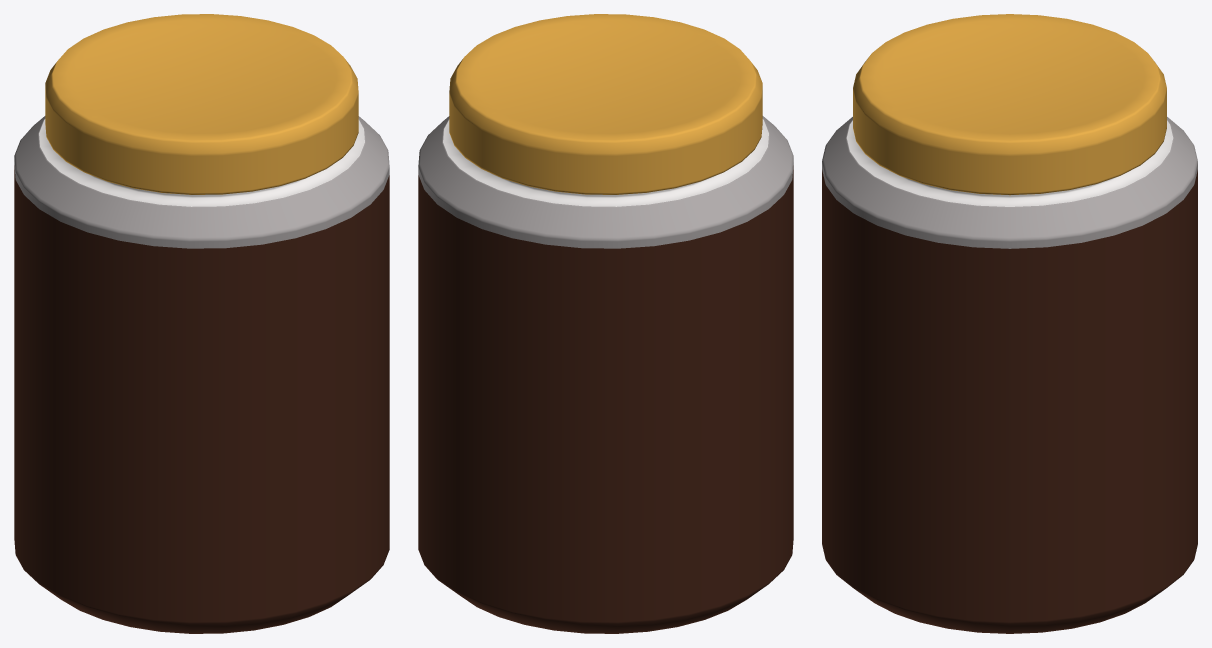
File: selai cokelat.fbx
3 views of the same model, side by side, from view 1: azimuth 30°, elevation 25°; view 2: azimuth 150°, elevation 25°; view 3: azimuth 270°, elevation 25° (orthographic).
Visible parts, largest first — view 1: Cylinder, Cylinder.001; view 2: Cylinder, Cylinder.001; view 3: Cylinder, Cylinder.001.
Part boxes in pixels (<box>): Cylinder: <box>14,116,389,633</box>; Cylinder.001: <box>45,14,358,194</box>; Cylinder: <box>418,116,793,633</box>; Cylinder.001: <box>449,14,762,194</box>; Cylinder: <box>822,117,1197,633</box>; Cylinder.001: <box>853,14,1166,195</box>.
Size of the model in its own units: 83.38 by 120 by 83.38.
